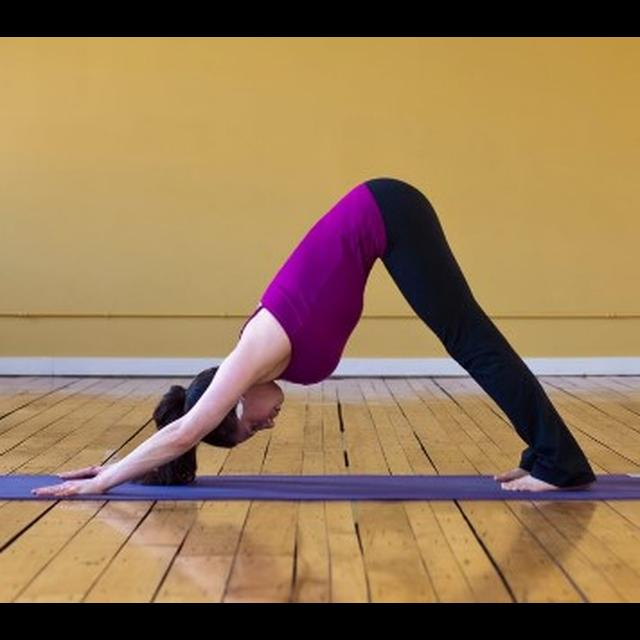Downward-Facing_Dog: (23, 174, 608, 502)
